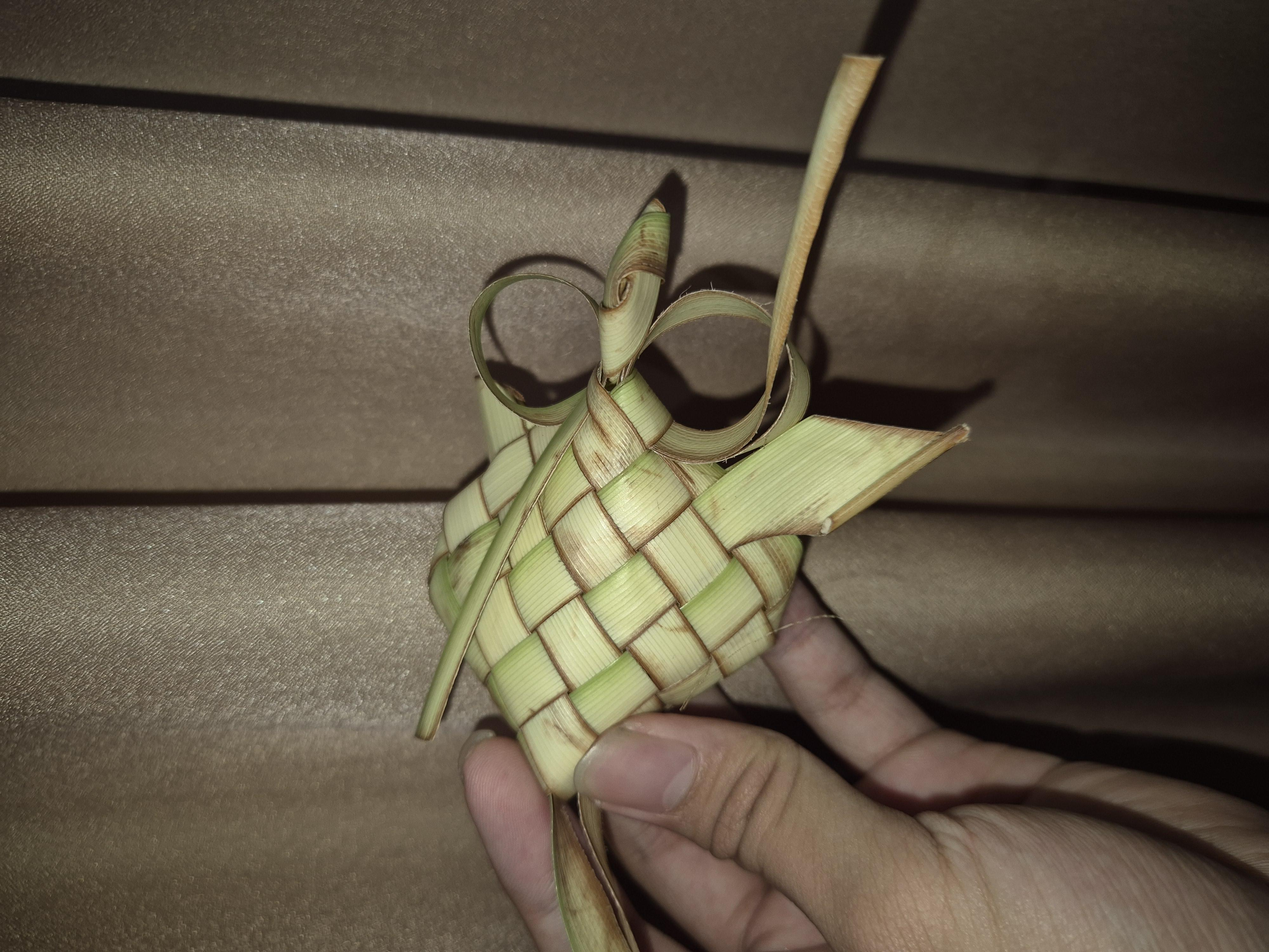Tipat Dampulan: (206, 316, 1194, 727)
